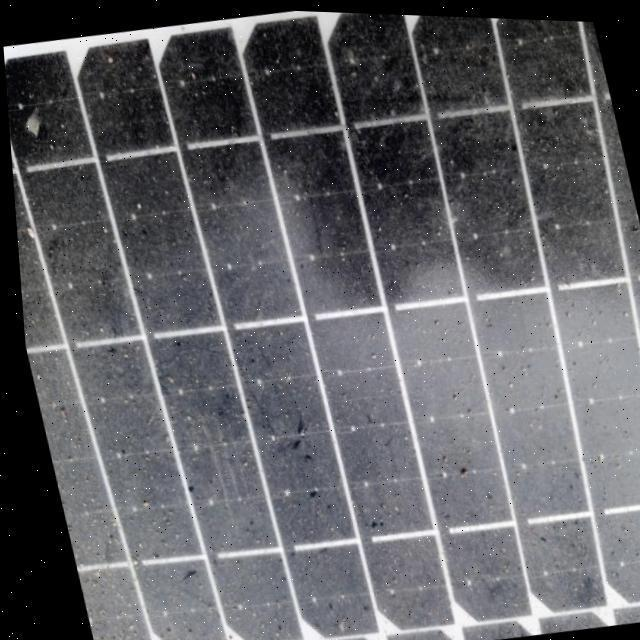Surface Contaminant: (18, 9, 640, 640)
